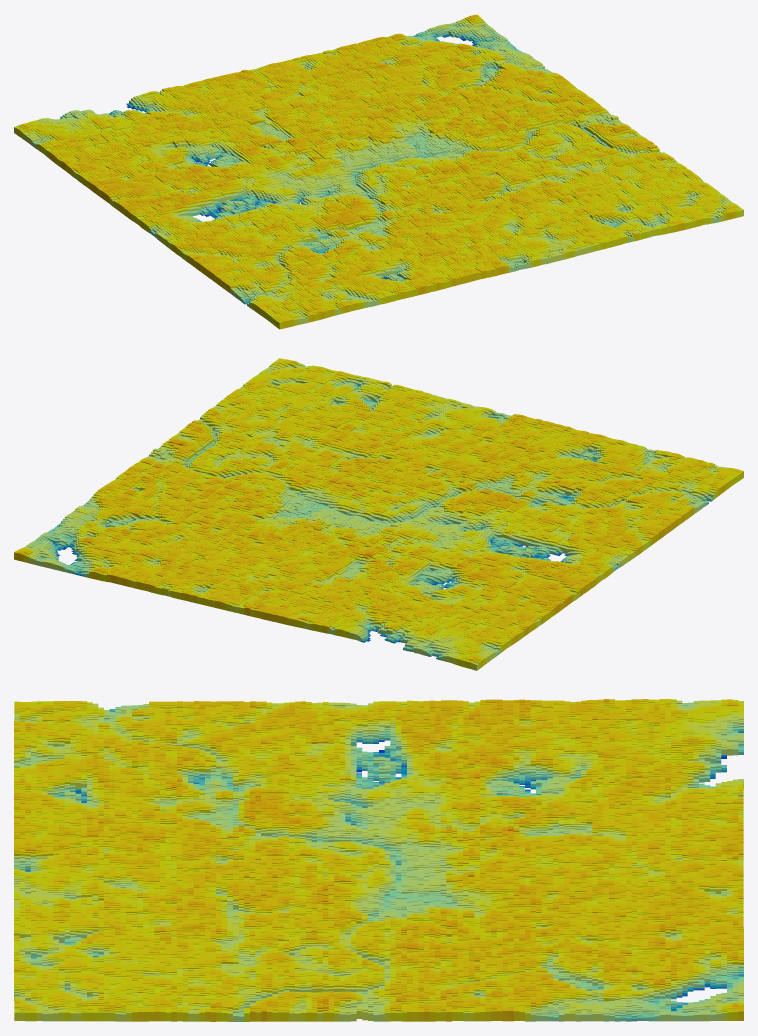
File: population.glb
3 renders of one model, top to bottom at view 1: azimuth 30°, elevation 25°; view 2: azimuth 150°, elevation 25°; view 3: azimuth 270°, elevation 25°, orthographic. The views are drawn at different scales.
Visible parts, largest first — view 1: population; view 2: population; view 3: population.
Part boxes in pixels (x1,y1,x2,y2): population: (14,14,743,329); population: (14,358,743,670); population: (14,699,743,1021).
Size of the model in its own units: 13081 by 321 by 12996.
